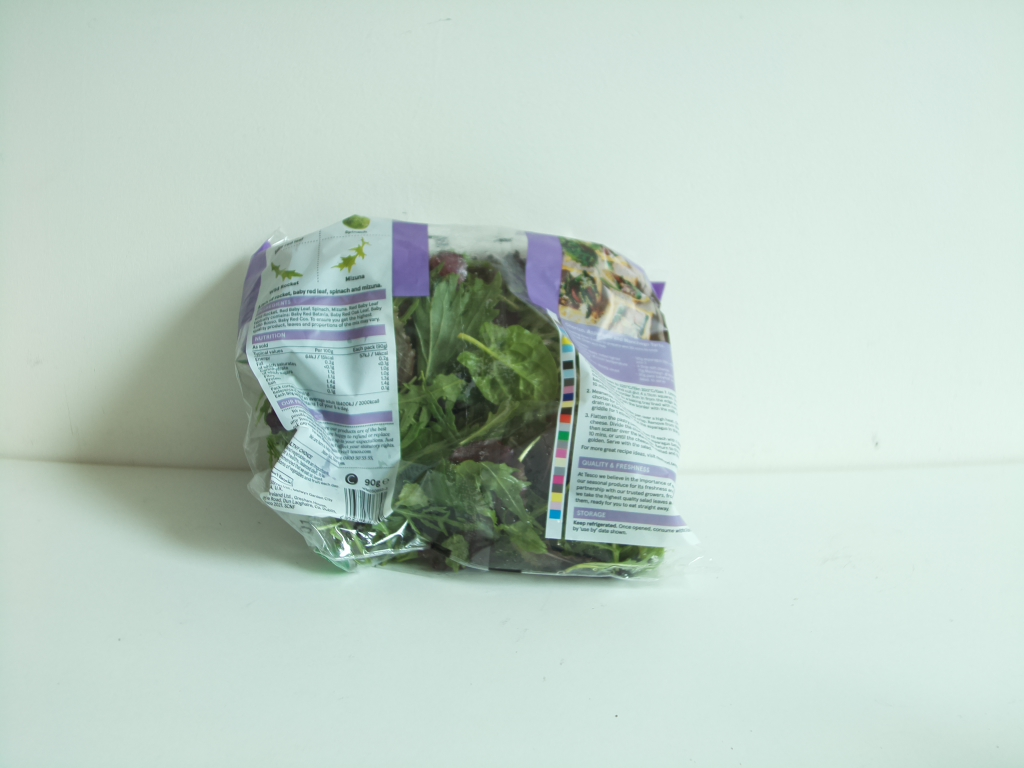salad: (240, 221, 687, 580)
